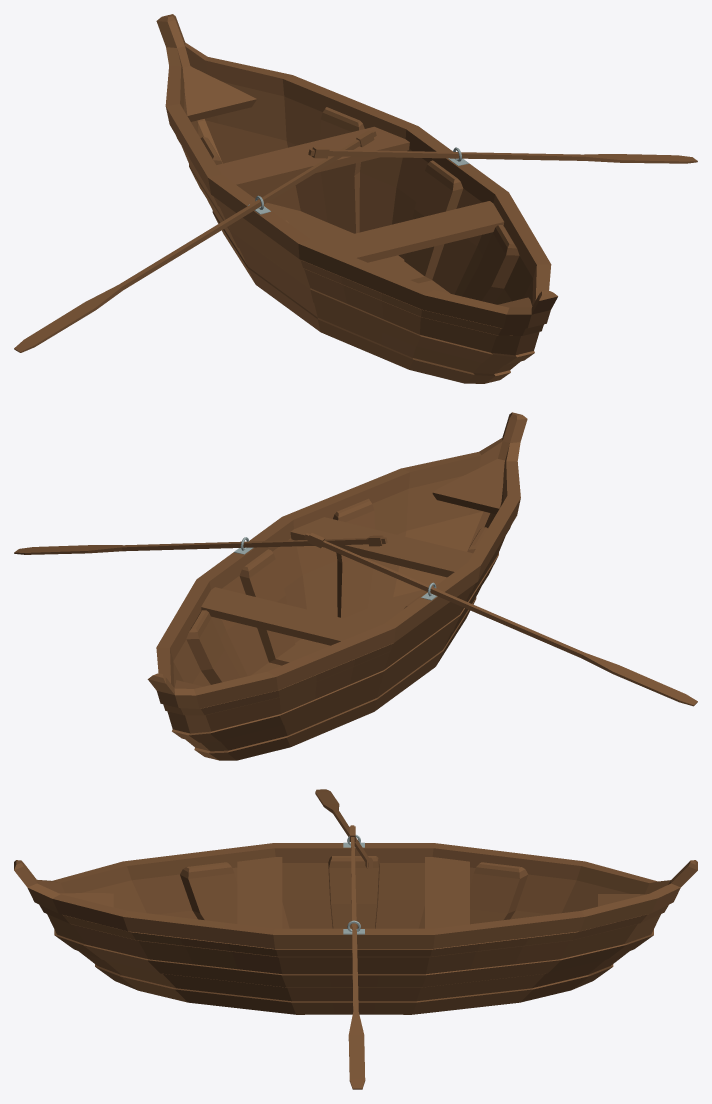
Rendered from boat_3d_low-poly.glb.
3 renders of one model, top to bottom at view 1: azimuth 30°, elevation 25°; view 2: azimuth 150°, elevation 25°; view 3: azimuth 270°, elevation 25°, orthographic. The views are drawn at different scales.
Parts seen in each view (by area): view 1: Cube.001_2, Cube.002_3, Cube.005_7, Cube.004_6; view 2: Cube.001_2, Cube.002_3, Cube.005_7, Cube.004_6; view 3: Cube.001_2, Cube.002_3, Cube.004_6, Cube.005_7.
Boxes of the visible parts, box(x1,y1,x2,y2) form: Cube.001_2: box(156, 14, 557, 383); Cube.002_3: box(182, 66, 532, 307); Cube.005_7: box(14, 130, 376, 352); Cube.004_6: box(308, 147, 697, 163); Cube.001_2: box(147, 412, 527, 760); Cube.002_3: box(174, 459, 504, 688); Cube.005_7: box(304, 533, 697, 706); Cube.004_6: box(14, 535, 387, 554); Cube.001_2: box(14, 843, 697, 1014); Cube.002_3: box(59, 857, 647, 928); Cube.004_6: box(348, 825, 365, 1089); Cube.005_7: box(315, 789, 372, 868).
Bounding box in the file's own units: 7.46 × 1.58 × 7.07.
